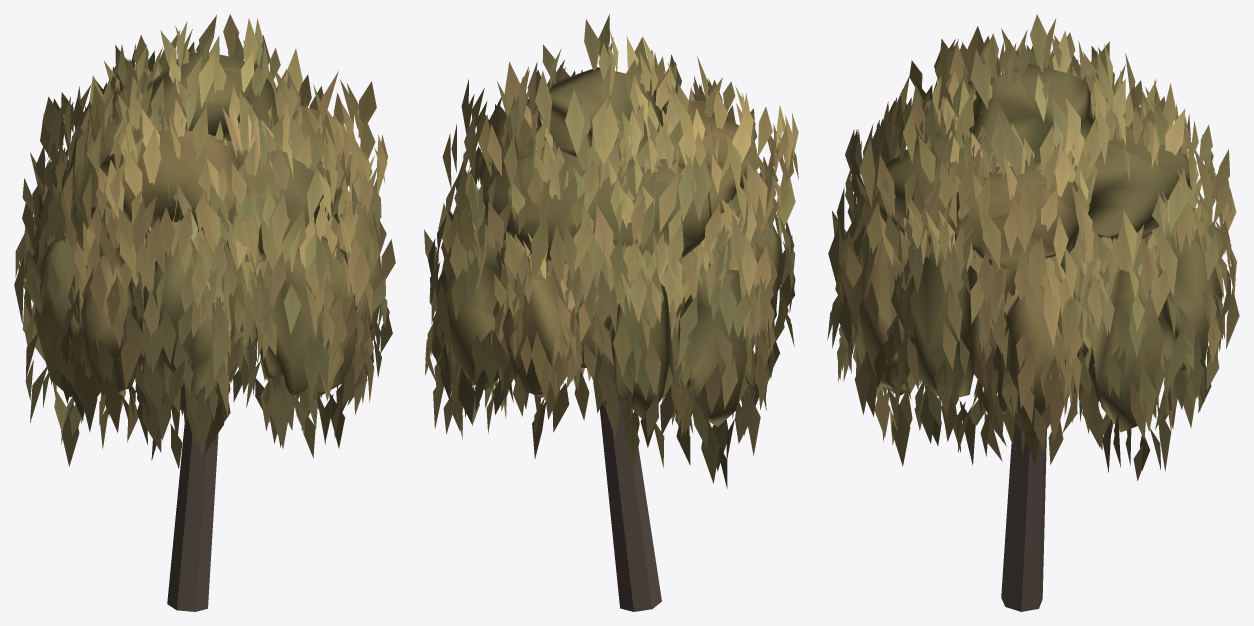
Rendered from sauce_a.glb.
3 views of the same model, side by side, from view 1: azimuth 30°, elevation 25°; view 2: azimuth 150°, elevation 25°; view 3: azimuth 270°, elevation 25° (orthographic). The views are drawn at different scales.
Visible parts, largest first — view 1: SauceAHojas, SauceACopa, SauceATronco; view 2: SauceAHojas, SauceACopa, SauceATronco; view 3: SauceAHojas, SauceACopa, SauceATronco.
Boxes of the visible parts, x1=… form: SauceAHojas: x1=14, y1=14, x2=395, y2=468; SauceACopa: x1=34, y1=51, x2=382, y2=410; SauceATronco: x1=167, y1=386, x2=218, y2=611; SauceAHojas: x1=424, y1=14, x2=798, y2=488; SauceACopa: x1=435, y1=67, x2=781, y2=426; SauceATronco: x1=600, y1=399, x2=661, y2=611; SauceAHojas: x1=827, y1=14, x2=1239, y2=480; SauceACopa: x1=853, y1=64, x2=1222, y2=437; SauceATronco: x1=1001, y1=424, x2=1046, y2=611.
Size of what is drawn, in the model's own units: 5.72 by 9.37 by 5.91.
